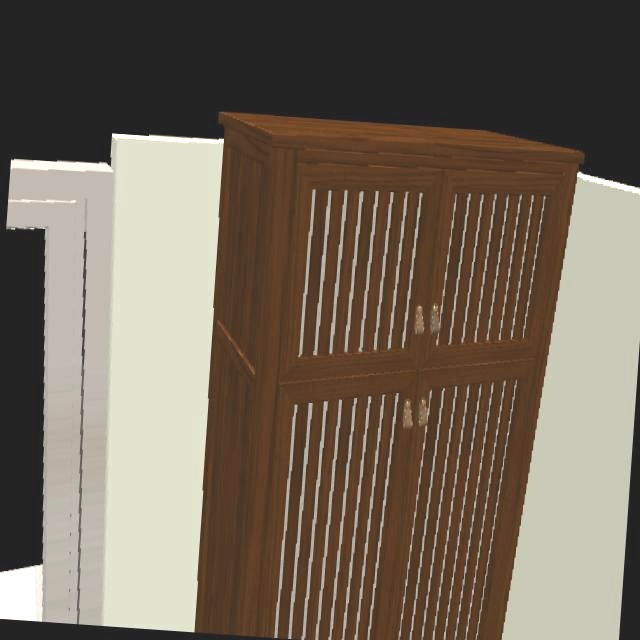wardrobe: (195, 112, 582, 640)
